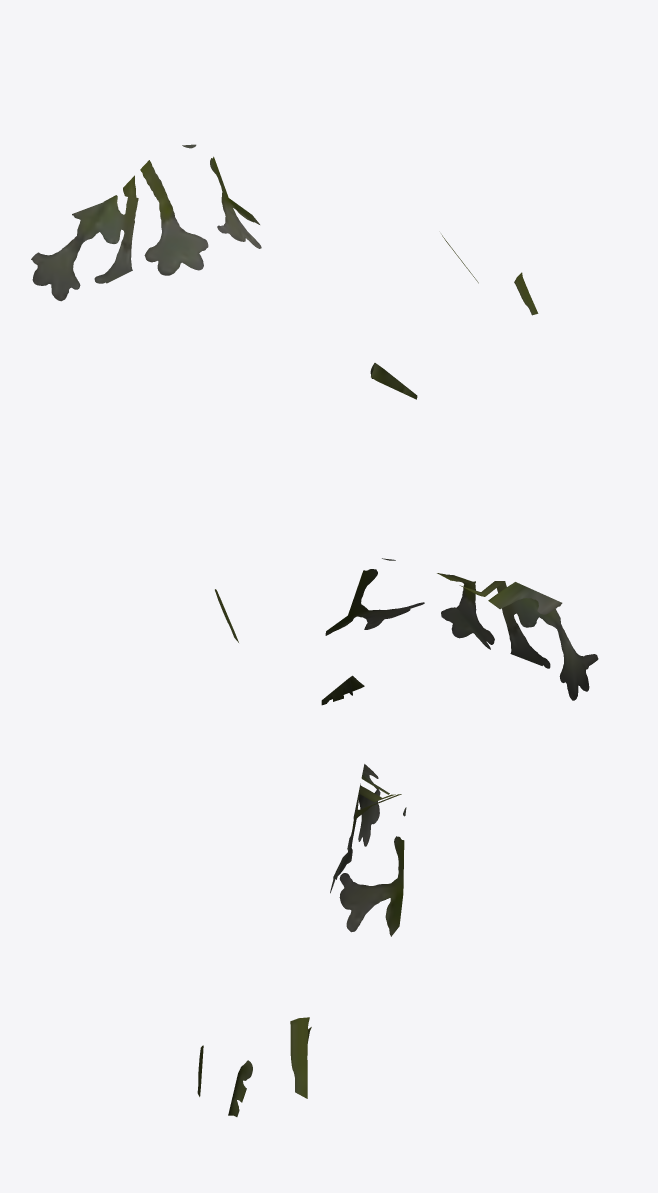
The picture shows the model from 3 angles, top to bottom: view 1: azimuth 30°, elevation 25°; view 2: azimuth 150°, elevation 25°; view 3: azimuth 270°, elevation 25°; orthographic projection. The views are drawn at different scales.
Parts seen in each view (by area): view 1: SM_BM_Grass_Long_01_D_LOD0; view 2: SM_BM_Grass_Long_01_D_LOD0; view 3: SM_BM_Grass_Long_01_D_LOD0.
Boxes of the visible parts, left/top/right/bottom form: SM_BM_Grass_Long_01_D_LOD0: left=31, top=144, right=538, bottom=399; SM_BM_Grass_Long_01_D_LOD0: left=215, top=558, right=598, bottom=705; SM_BM_Grass_Long_01_D_LOD0: left=197, top=764, right=406, bottom=1116.
Bounding box in the file's own units: 0.2583 × 0.1168 × 0.2476.
